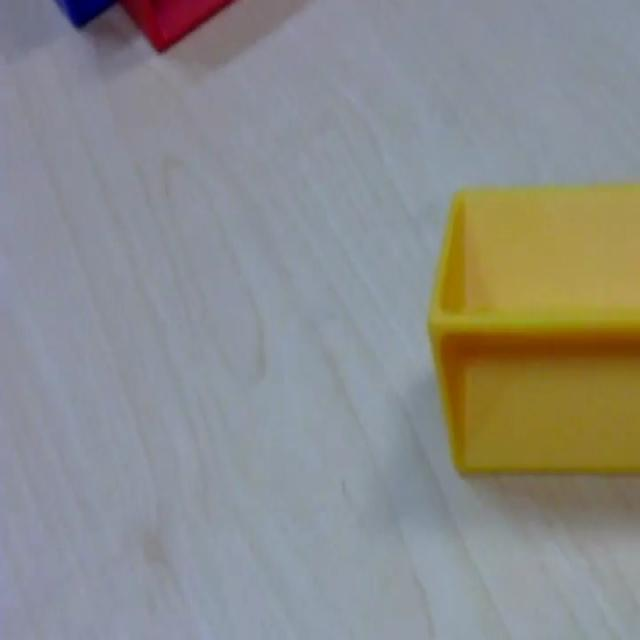yellow_block: (426, 182, 639, 478)
